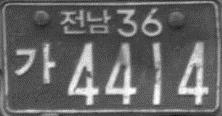1: (149, 40, 163, 105)
3: (115, 7, 137, 37)
4: (176, 38, 210, 105), (65, 42, 99, 106), (103, 41, 137, 105)
6: (141, 7, 163, 38)
가: (13, 42, 56, 86)
전남_O: (59, 8, 111, 34)
